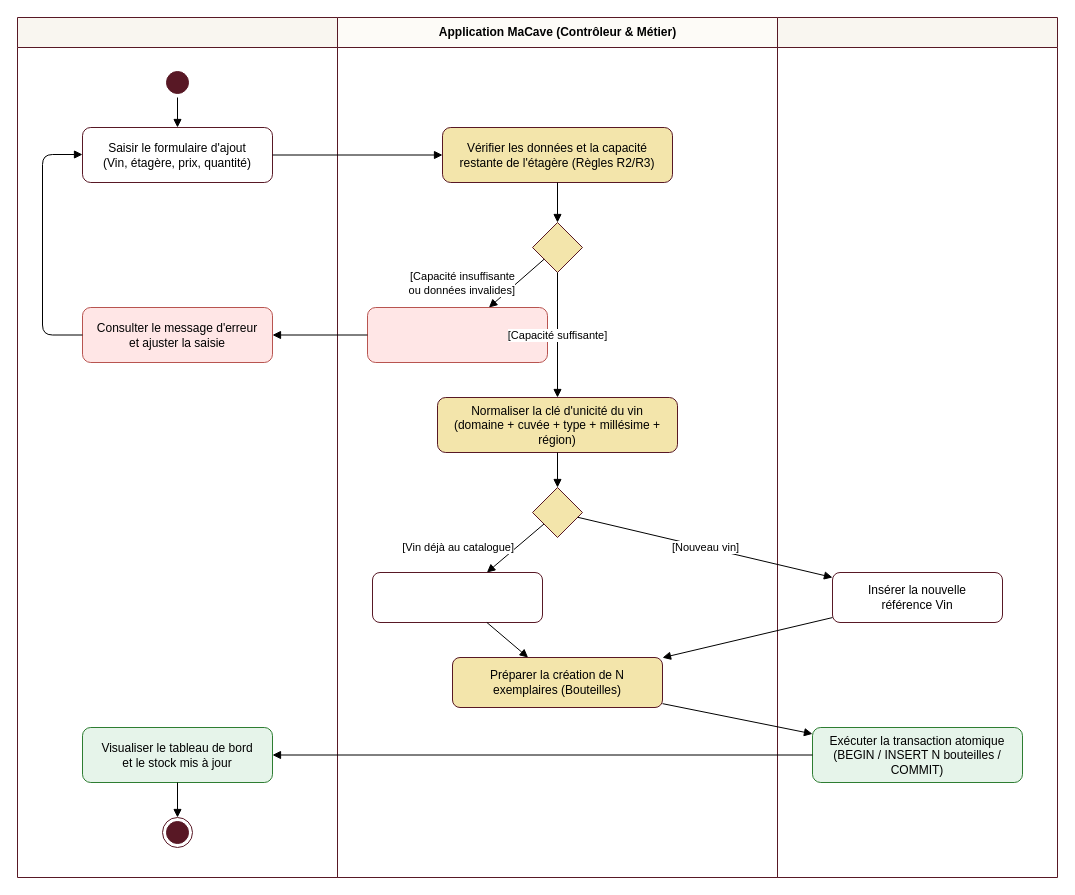
Some shapes in this 1075 by 895 pixel diagram are drawn without their labels. Here are the shapes that lost their labels. From the top down, the box of each, then its label:
(366, 306, 548, 362): Rejeter l'opération et préparer un message d'alerte (Flash)
(16, 16, 338, 878): Utilisateur
(776, 16, 1058, 878): Base SQLite
(372, 572, 542, 622): Réutiliser l'ID de la référence existante
